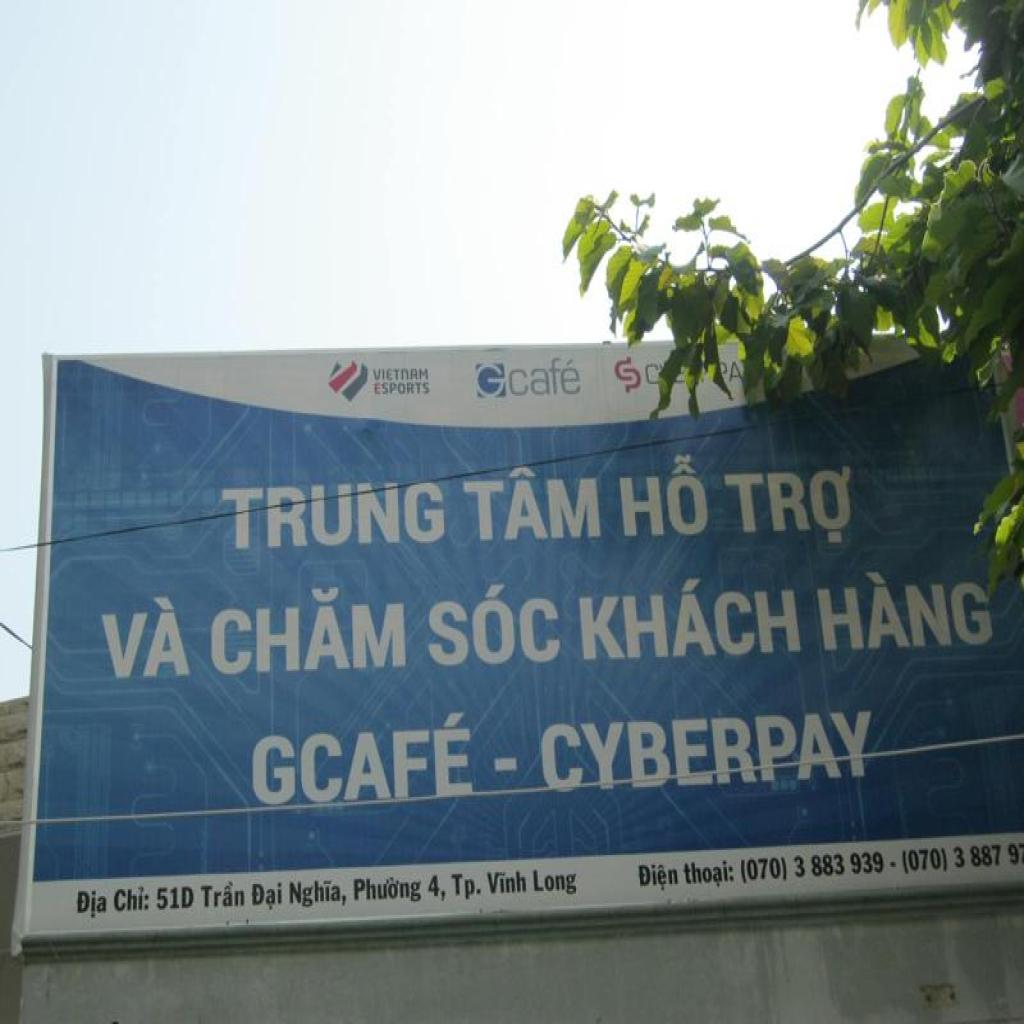text: (539, 705, 875, 799), (249, 706, 475, 812), (571, 570, 804, 669), (206, 582, 408, 678), (216, 476, 450, 553), (806, 564, 996, 656), (424, 578, 562, 672), (457, 456, 602, 542), (718, 462, 855, 550), (98, 594, 190, 683), (616, 452, 709, 538), (508, 355, 584, 399), (791, 850, 886, 881), (349, 870, 425, 908), (680, 854, 737, 894), (287, 876, 348, 912), (738, 854, 790, 888), (530, 864, 577, 900), (636, 858, 681, 894), (900, 845, 950, 877), (200, 879, 246, 911), (484, 867, 528, 898), (471, 364, 508, 400), (155, 879, 194, 913), (251, 879, 287, 915), (449, 868, 484, 904), (114, 882, 152, 915), (76, 886, 110, 920), (372, 380, 432, 398), (373, 367, 430, 382), (426, 872, 448, 903), (728, 360, 744, 386), (644, 364, 660, 388)
